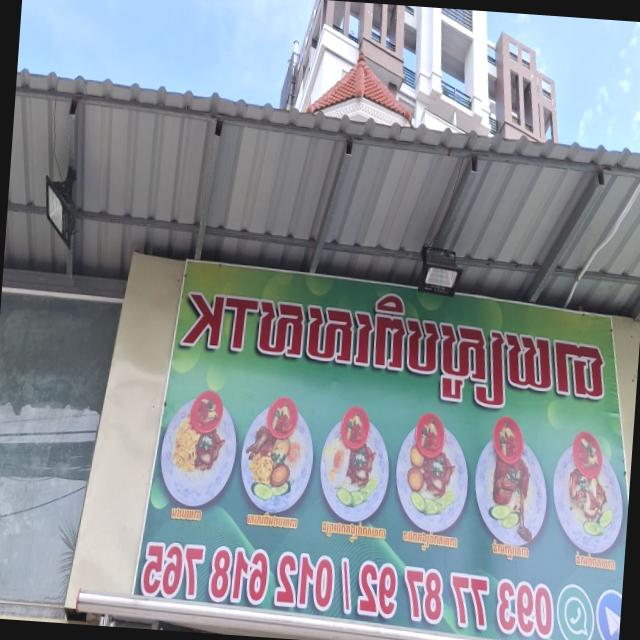Yolov11_80vkh: (245, 280, 616, 423), (316, 511, 391, 557), (231, 502, 303, 542), (398, 523, 463, 562), (166, 492, 209, 533), (566, 546, 619, 579), (482, 536, 532, 567)
